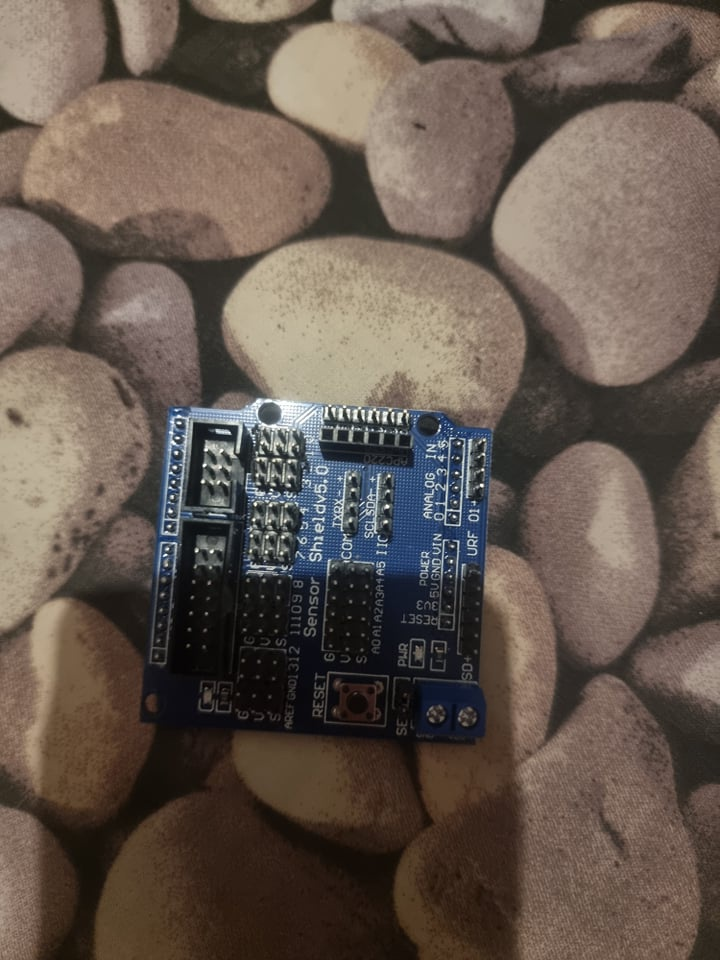5V EXPANSION: (135, 403, 495, 745)
